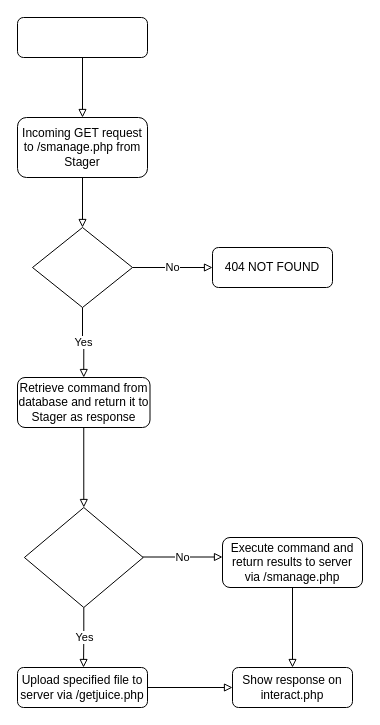
Image size: 380x725. Some labels were removed from this diagram. Each missing label, with the box of its shape:
Is command "download": (23, 506, 143, 608)
Is valid: (32, 226, 132, 308)
User assign command via /interact.php: (16, 16, 148, 58)
